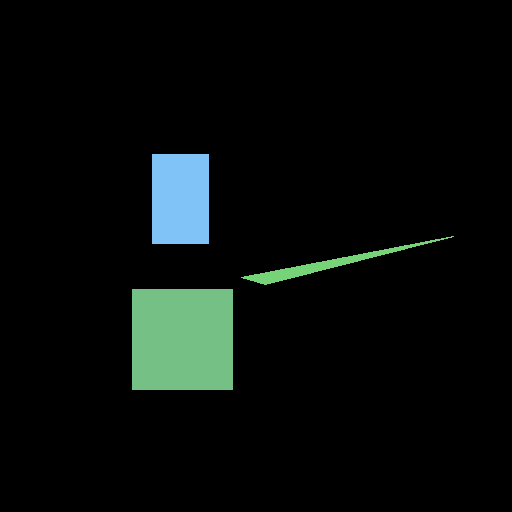rectangle: (152, 154, 208, 243)
square: (132, 289, 232, 389)
triangle: (241, 236, 453, 284)
